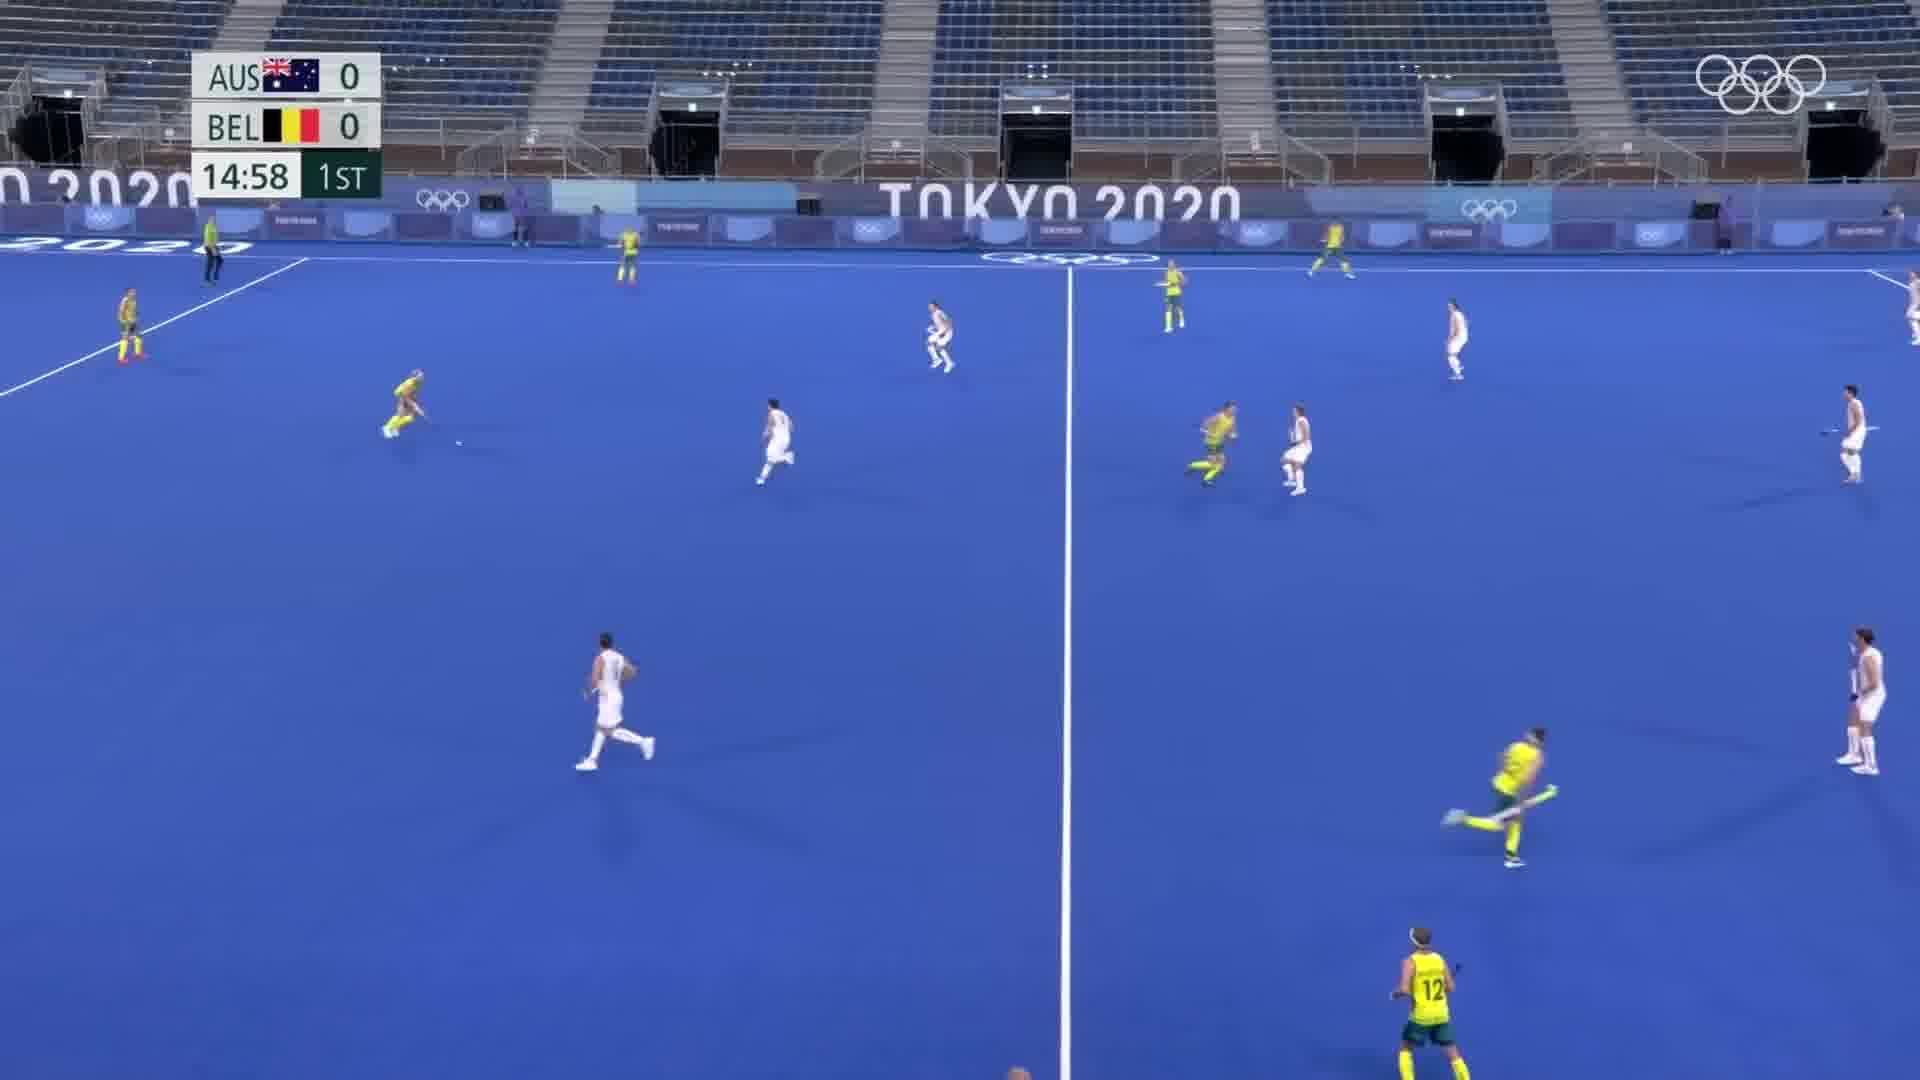ball: (443, 435, 476, 454)
